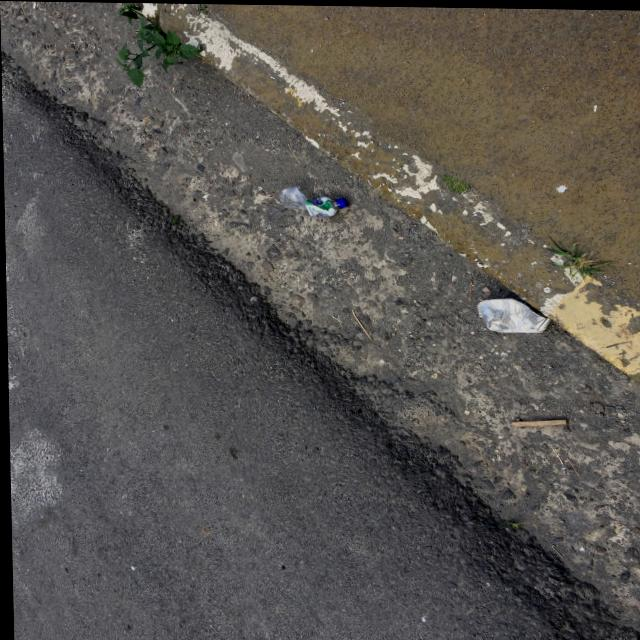Can-Metal: (470, 286, 564, 335)
Plastic: (271, 181, 361, 225)
